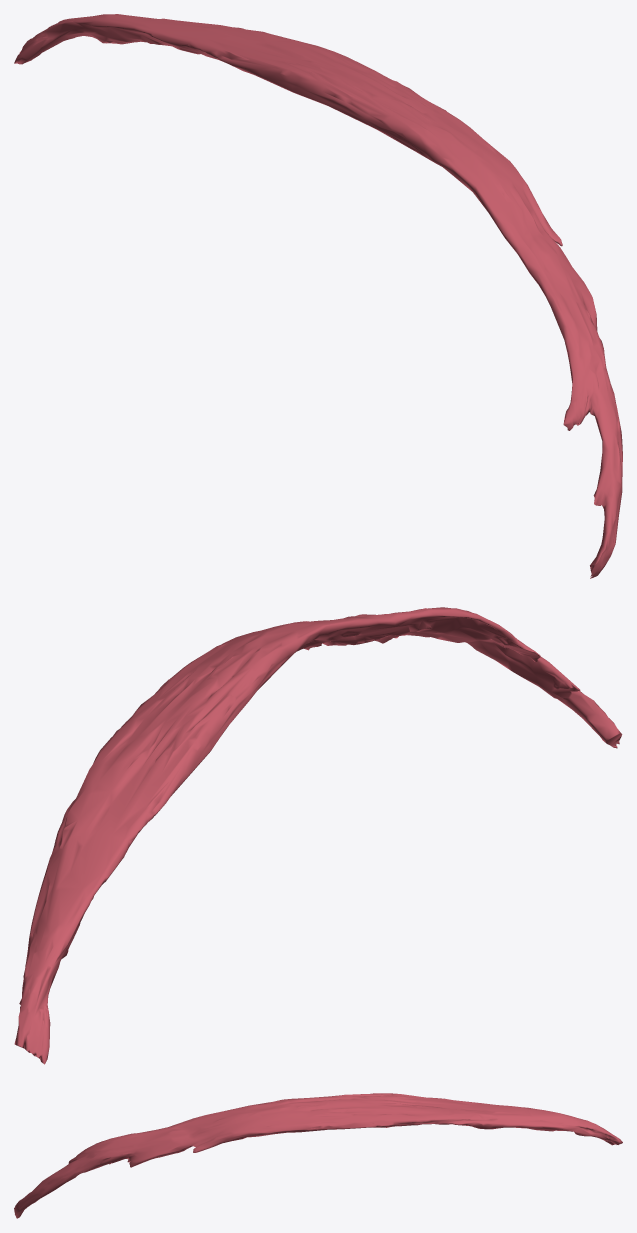
3 views of the same model, one above another, from view 1: azimuth 30°, elevation 25°; view 2: azimuth 150°, elevation 25°; view 3: azimuth 270°, elevation 25° (orthographic). The views are drawn at different scales.
Parts seen in each view (by area): view 1: 左侧胸髂肋肌; view 2: 左侧胸髂肋肌; view 3: 左侧胸髂肋肌.
Part boxes in pixels (x1=…): 左侧胸髂肋肌: x1=14, y1=14, x2=622, y2=578; 左侧胸髂肋肌: x1=14, y1=607, x2=622, y2=1064; 左侧胸髂肋肌: x1=14, y1=1093, x2=622, y2=1218.
Bounding box in the file's own units: 0.0806 × 0.1172 × 0.4663.
